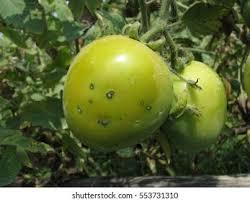tomato bacterial spot: (63, 36, 177, 152)
